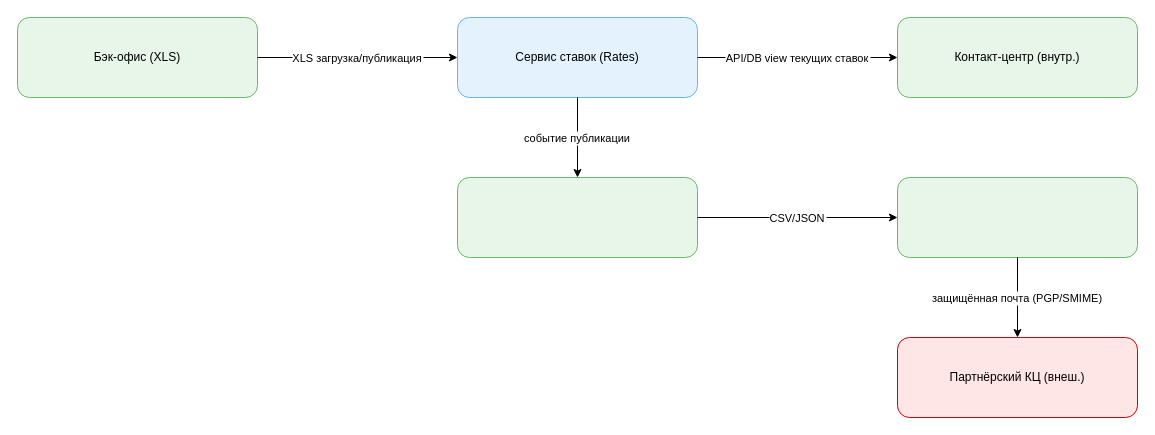
Some shapes in this 1155 by 435 pixel diagram are drawn without their labels. Here are the shapes that lost their labels. From the top down, the box of each, then its label:
(456, 176, 698, 258): Rates Exporter
(896, 176, 1138, 258): Почтовый шлюз
